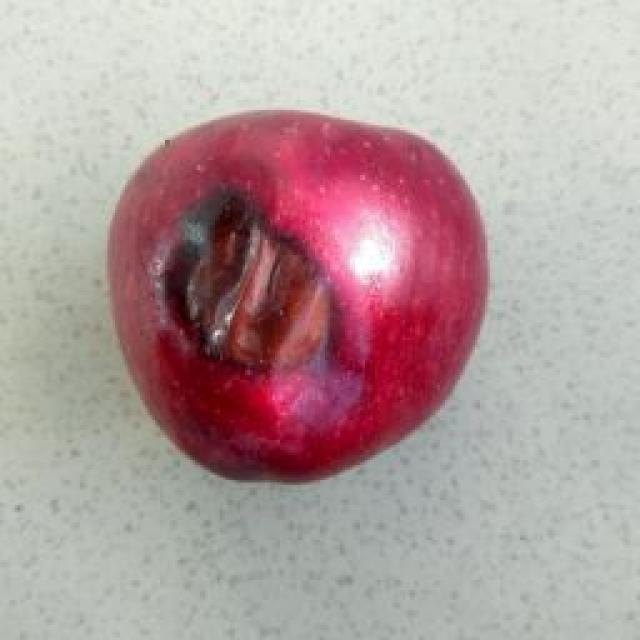Bad_Apple: (109, 112, 485, 481)
